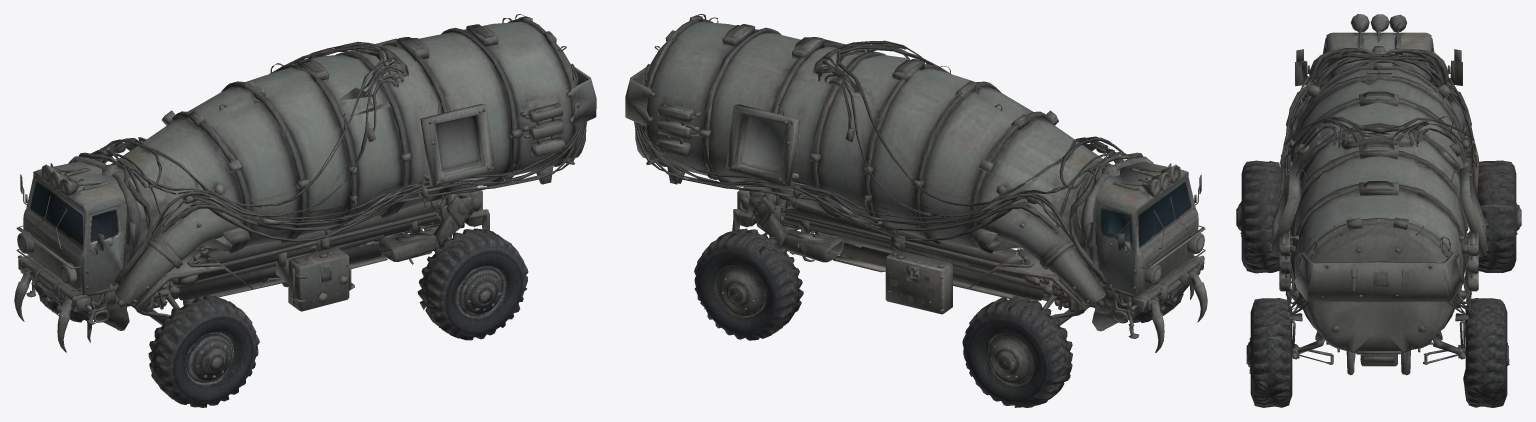
File: enm_convoy_boss.glb
3 renders of one model, left to right at view 1: azimuth 30°, elevation 25°; view 2: azimuth 150°, elevation 25°; view 3: azimuth 270°, elevation 25°, orthographic.
Bounding box in the file's own units: 0.9497 × 0.4429 × 0.4458.
1 material, 1 textured.
